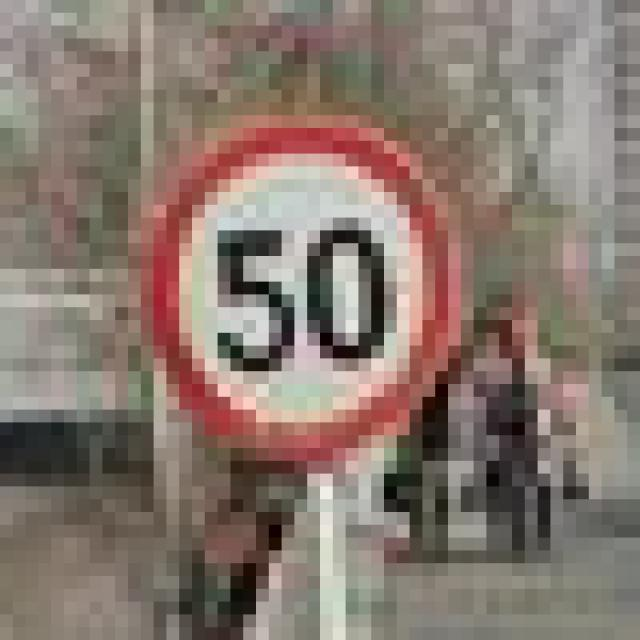speed_limit_30: (128, 102, 435, 448)
